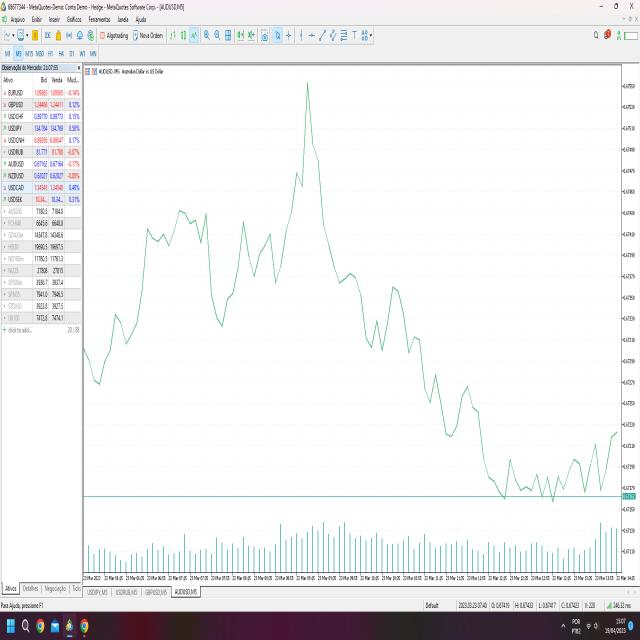oco: (368, 271, 429, 377)
